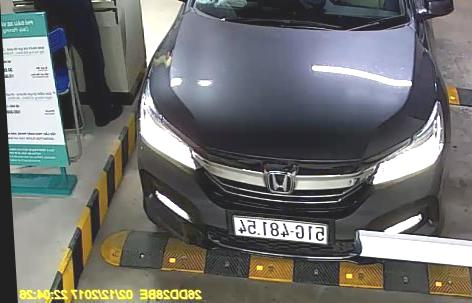License_Plate: (232, 214, 329, 244)
